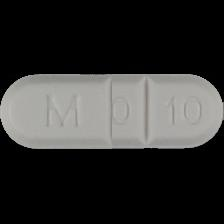16590-375: (0, 0, 224, 224)
